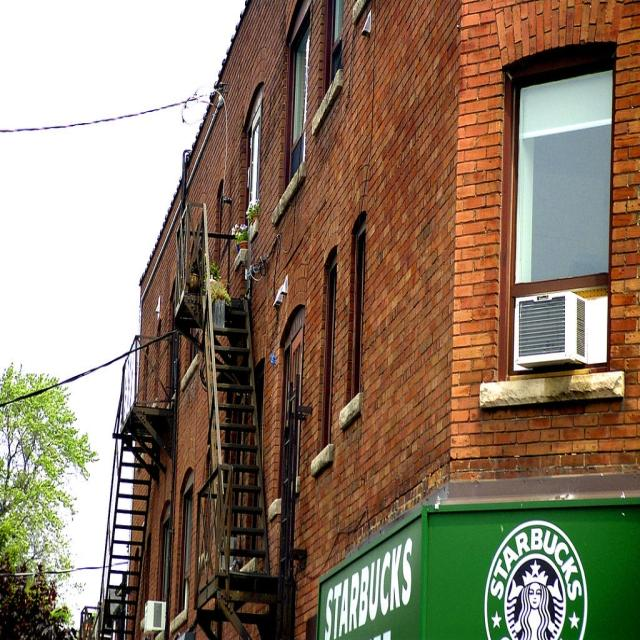starbucks: (485, 520, 590, 640)
